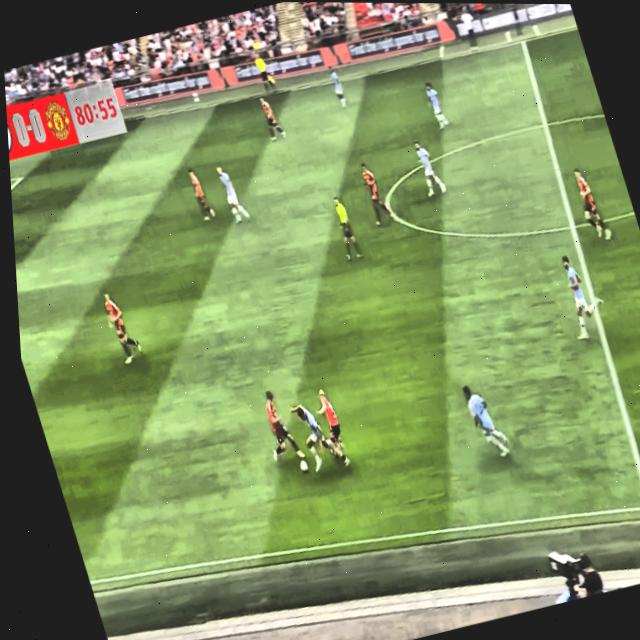ball: (296, 454, 313, 477)
players: (550, 247, 610, 344), (454, 373, 515, 465), (96, 282, 152, 375), (287, 397, 347, 478), (250, 382, 307, 466), (565, 162, 617, 253), (310, 383, 359, 472), (354, 144, 398, 230), (179, 158, 224, 233), (212, 156, 255, 229), (409, 134, 449, 198), (251, 83, 291, 146), (417, 74, 454, 133), (319, 54, 352, 119)
refree: (325, 184, 372, 276), (245, 40, 277, 96)
